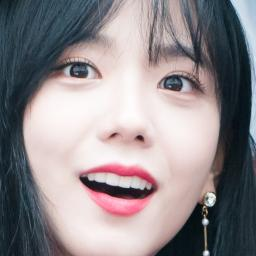face: (32, 6, 198, 256)
